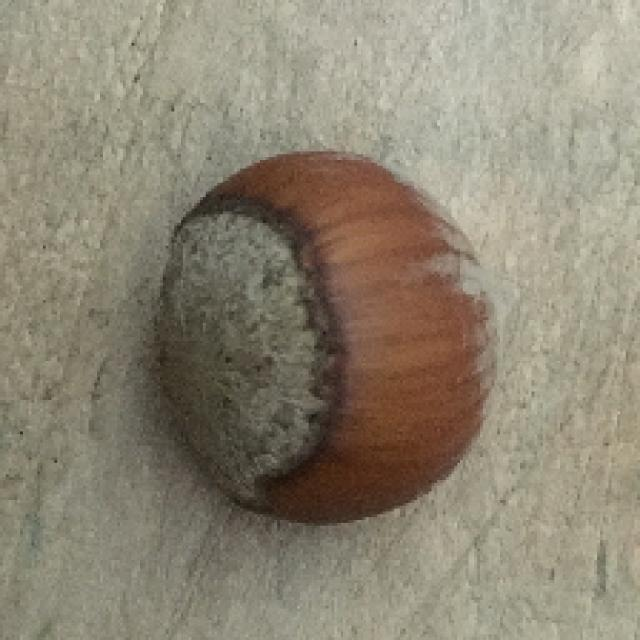qualityHazelnut: (154, 148, 504, 526)
